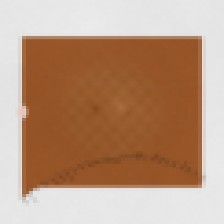corneal_ulcer: (83, 94, 126, 129)
